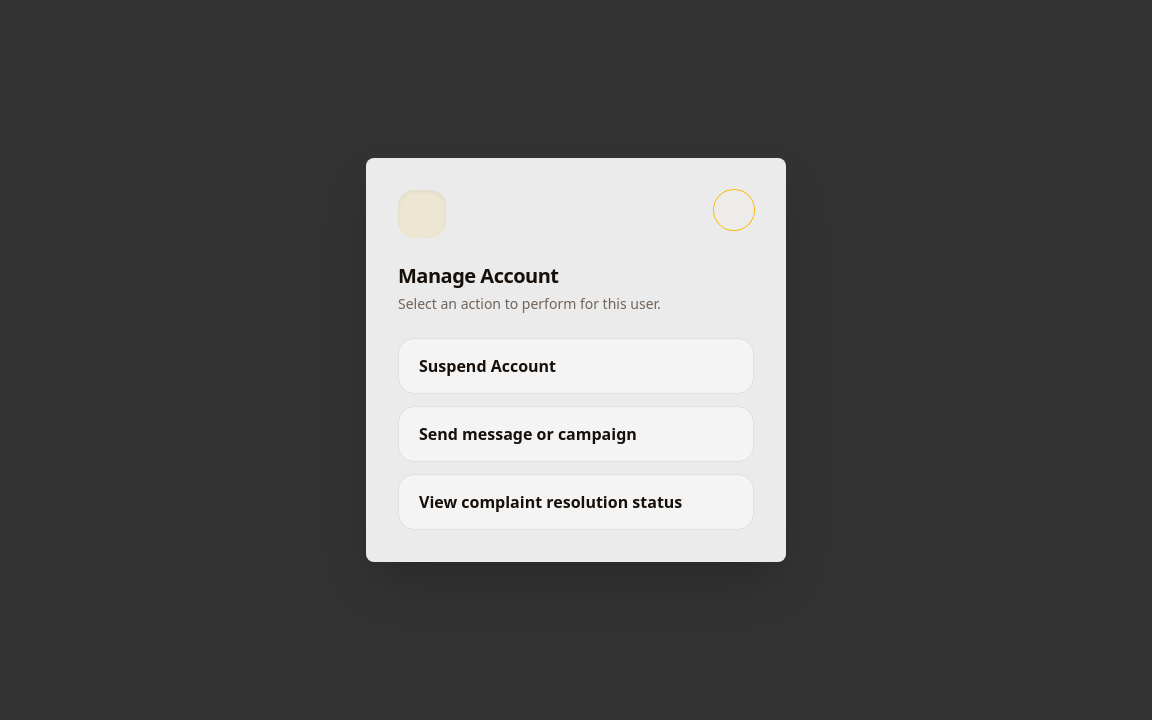
Test: suspend › refuses to suspend without a reason
This screenshot has width=1152, height=720.
Click the button "Suspend Account": (488, 366) [398,338,754,394]
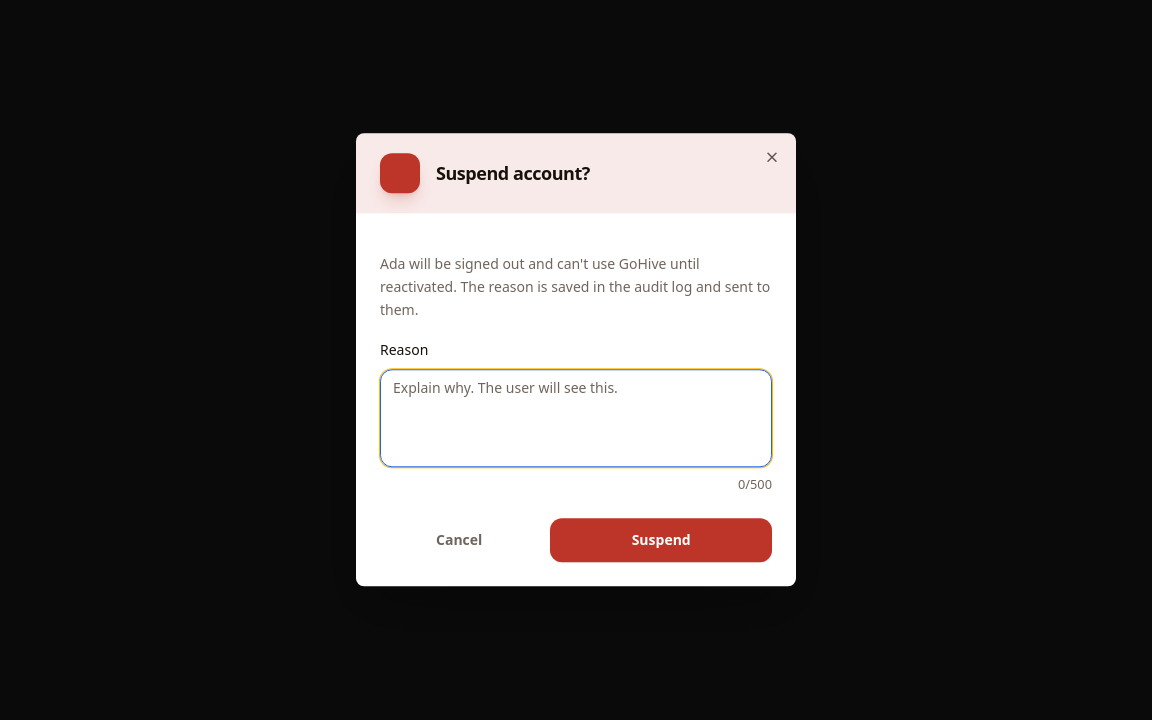
expect the heading "Suspend account?" is shown: met, box [436,159,590,187]
Click the button "Suspend": (661, 541) [550,519,772,563]
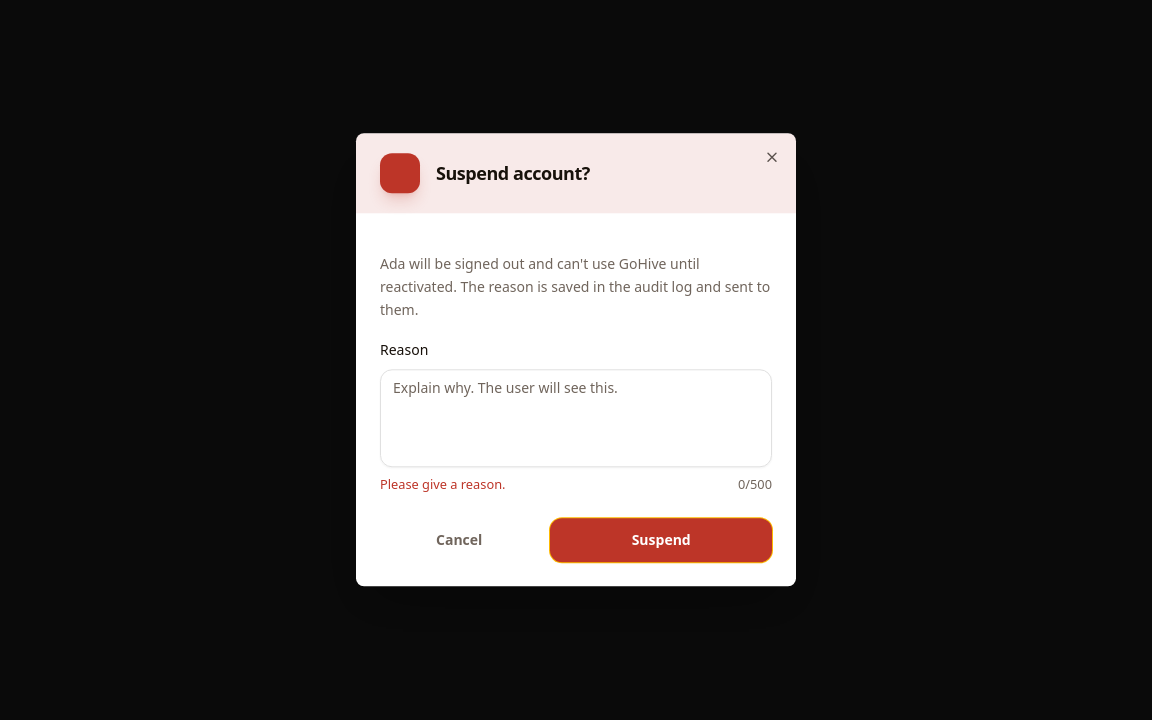
expect the text "Please give a reason." is shown: met, box [380,476,506,495]
